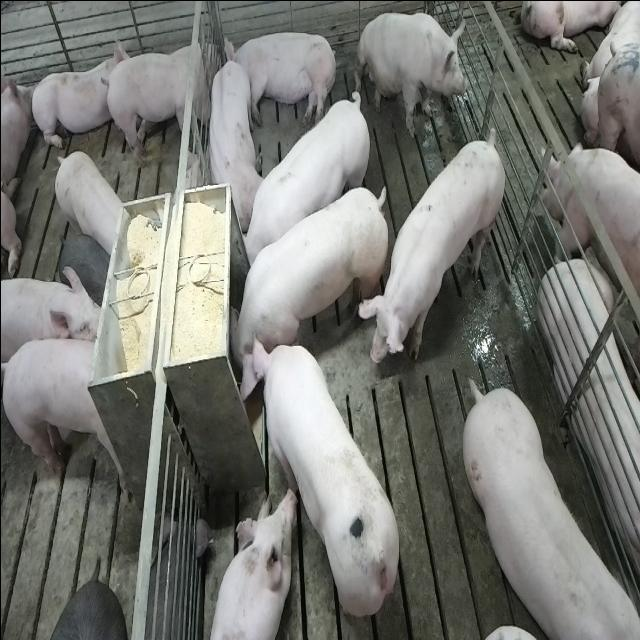Feeding: (247, 336, 401, 620), (220, 178, 386, 398)
Lateral_lying: (540, 252, 640, 604), (222, 26, 339, 128)
Sitting: (354, 8, 467, 139)
Standing: (465, 381, 640, 640), (356, 128, 506, 378), (241, 82, 374, 277), (2, 337, 127, 492), (102, 34, 220, 175), (540, 133, 640, 296), (3, 267, 109, 378), (52, 150, 125, 257)
Sternal_lying: (206, 488, 294, 640), (27, 34, 123, 154), (203, 52, 262, 229)
